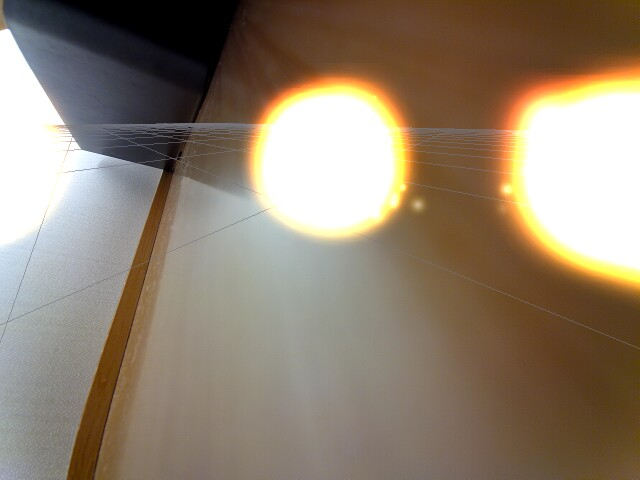firebig: (501, 63, 640, 317)
